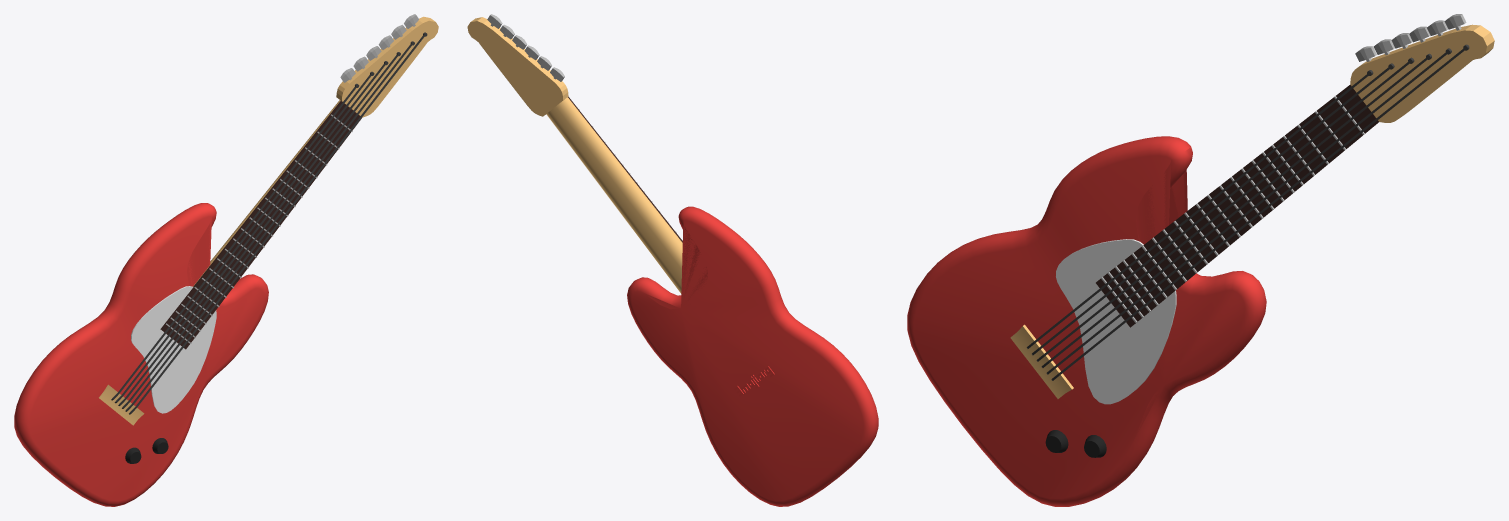
Rendered from guitar.fbx.
3 views of the same model, side by side, from view 1: azimuth 30°, elevation 25°; view 2: azimuth 150°, elevation 25°; view 3: azimuth 330°, elevation 25° (orthographic). The views are drawn at different scales.
Visible parts, largest first — view 1: Cube.913; view 2: Cube.913; view 3: Cube.913.
Part boxes in pixels (box(x1,y1,x2,y2)): Cube.913: box(14, 14, 438, 506); Cube.913: box(467, 14, 878, 506); Cube.913: box(907, 14, 1494, 506).
Bounding box in the file's own units: 239 × 231 × 14.73.
1 material, 1 textured.
